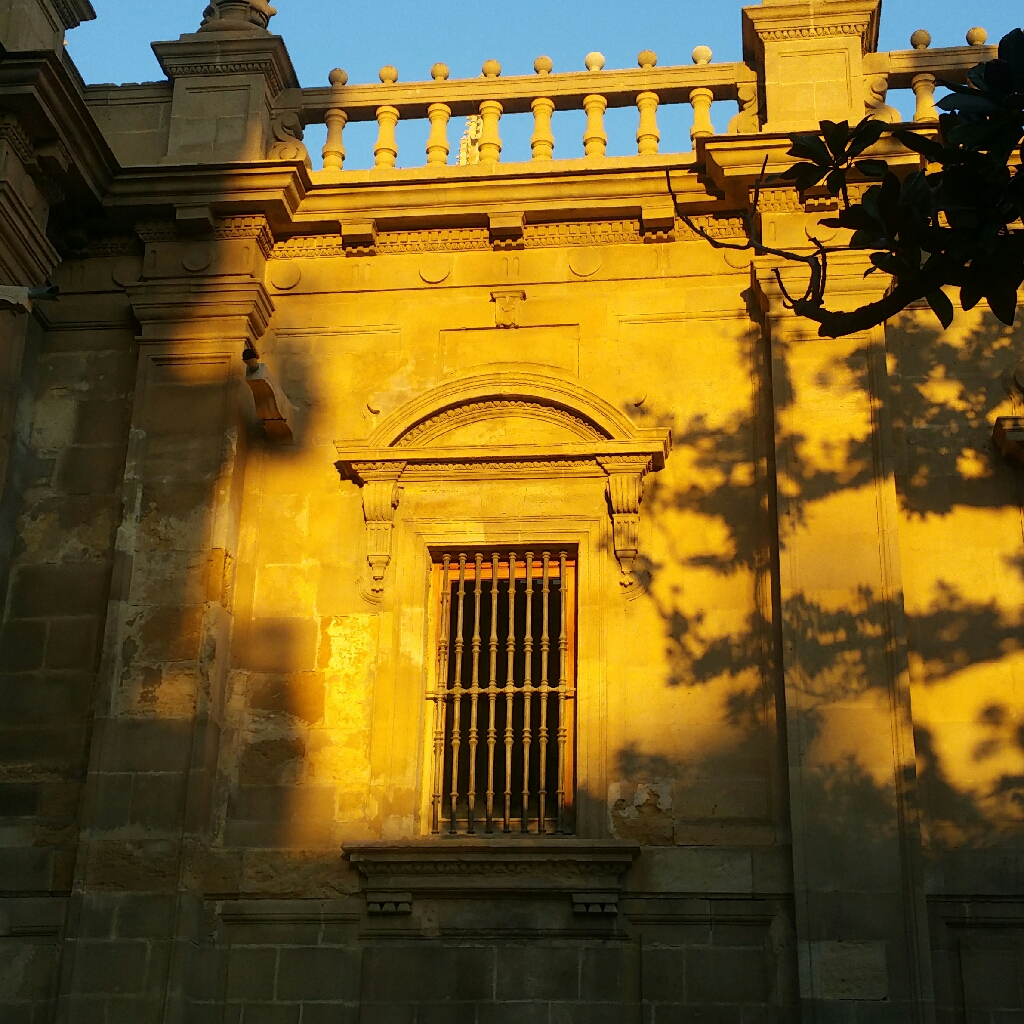fronton-curvo: (359, 360, 643, 462)
vano-adintelado: (401, 520, 597, 852)
